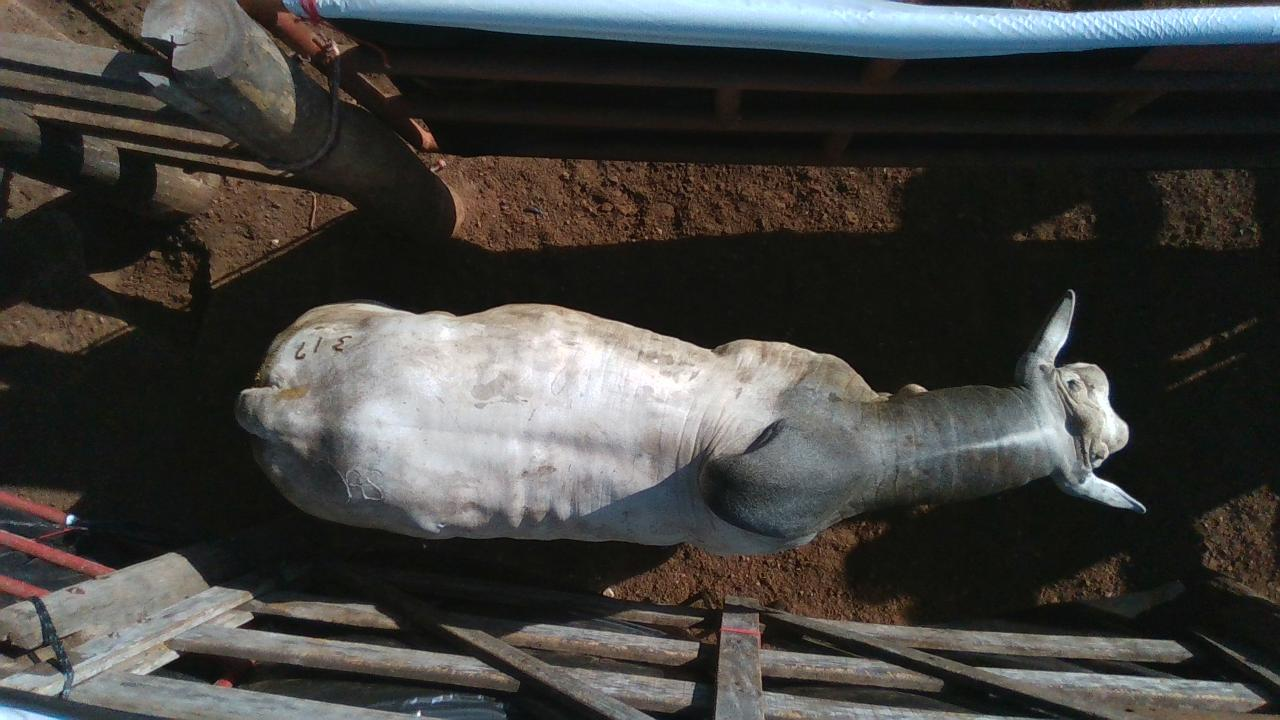cattle: (233, 286, 1147, 558)
